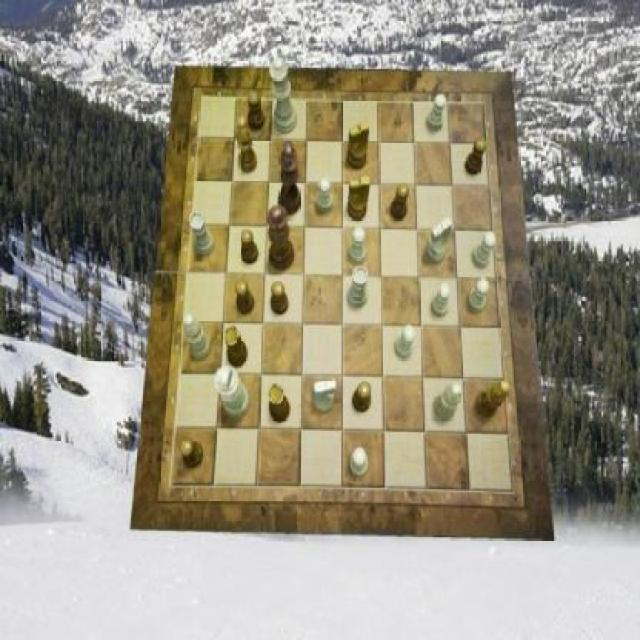bishop: (477, 382, 511, 419), (237, 115, 258, 173)
black-bishop: (278, 140, 301, 216)
black-king: (346, 123, 369, 171), (348, 175, 370, 221)
black-knight: (465, 137, 487, 175), (389, 183, 408, 221), (180, 437, 203, 468), (240, 229, 259, 264), (352, 381, 372, 414), (236, 279, 254, 313), (248, 91, 264, 129), (271, 282, 288, 316)
black-pawn: (268, 206, 295, 272)
black-queen: (224, 325, 248, 367), (268, 384, 290, 424)
black-rook: (185, 314, 212, 360), (434, 383, 461, 421)
white-bishop: (215, 366, 251, 419)
white-king: (426, 217, 452, 263), (314, 379, 337, 413)
white-knight: (472, 231, 496, 268), (466, 279, 489, 313), (426, 94, 446, 131), (431, 283, 451, 318), (396, 325, 416, 359), (349, 228, 367, 264), (317, 179, 334, 213), (351, 448, 368, 477)
white-pawn: (269, 57, 297, 135)
white-queen: (191, 212, 215, 256), (346, 266, 369, 309)
